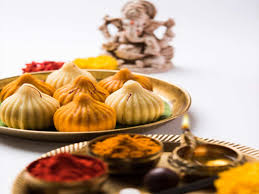modak: (101, 71, 165, 118), (49, 65, 110, 102), (1, 82, 48, 123), (57, 96, 112, 129)
